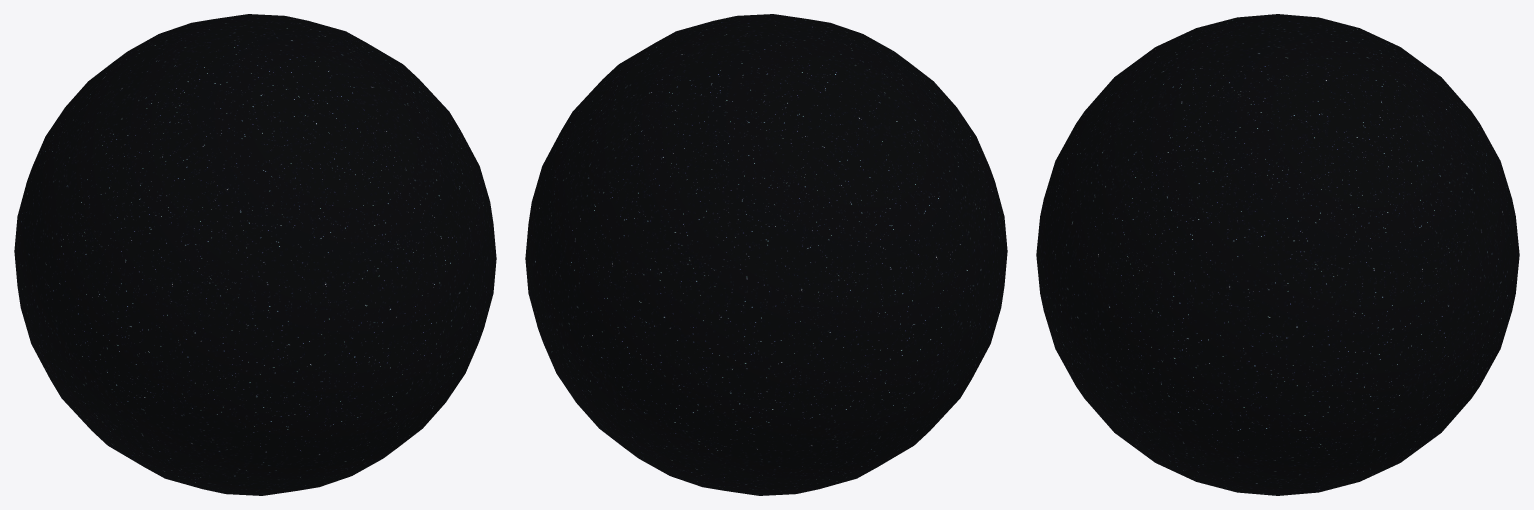
Rendered from planetas.glb.
The picture shows the model from 3 angles, left to right: view 1: azimuth 30°, elevation 25°; view 2: azimuth 150°, elevation 25°; view 3: azimuth 270°, elevation 25°; orthographic projection.
Visible parts, largest first — view 1: bolotona; view 2: bolotona; view 3: bolotona.
Boxes of the visible parts, bbox=[...] form: bolotona: bbox=[14, 14, 496, 495]; bolotona: bbox=[525, 14, 1007, 495]; bolotona: bbox=[1036, 14, 1519, 495].
Size of the model in its own units: 742 by 742 by 742.
Materials: 14 (14 with a texture image).
